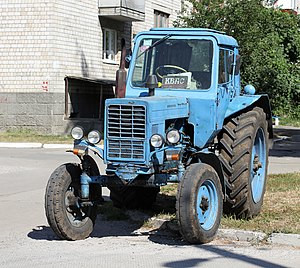tractor: (44, 26, 270, 243)
